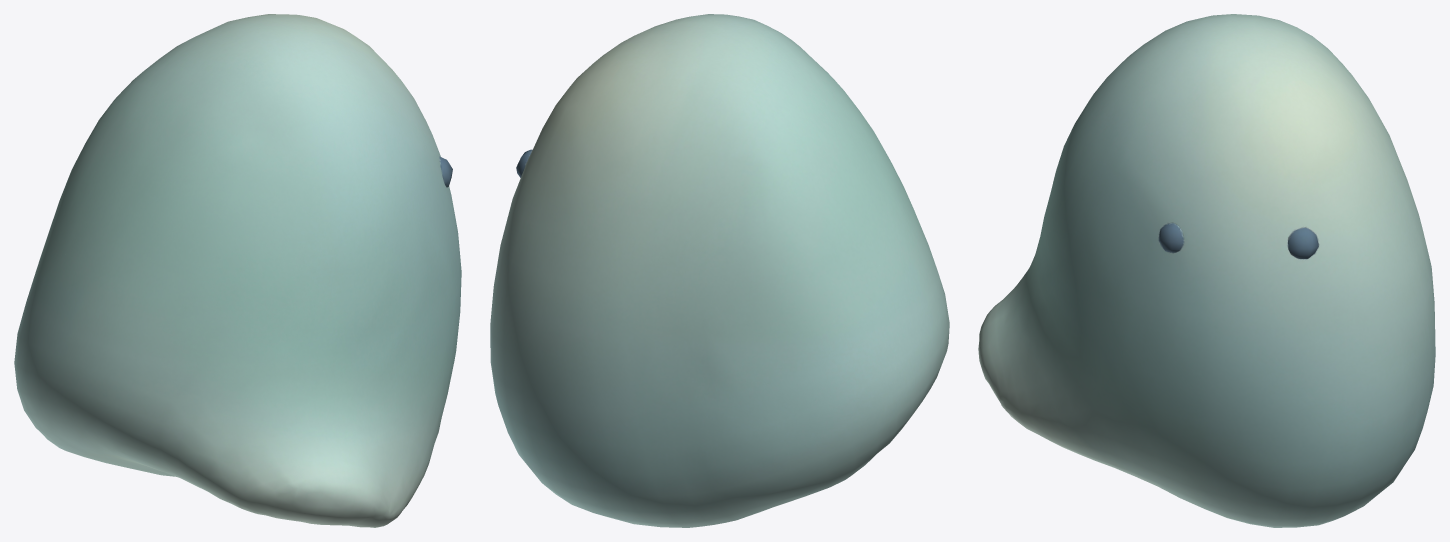
Rendered from ghost.glb.
3 views of the same model, side by side, from view 1: azimuth 30°, elevation 25°; view 2: azimuth 150°, elevation 25°; view 3: azimuth 270°, elevation 25° (orthographic). The views are drawn at different scales.
Visible parts, largest first — view 1: tripo_node_51306784-cece-499e-b93e-e97a7dd5f1d6; view 2: tripo_node_51306784-cece-499e-b93e-e97a7dd5f1d6; view 3: tripo_node_51306784-cece-499e-b93e-e97a7dd5f1d6.
Part boxes in pixels (x1,y1,x2,y2): tripo_node_51306784-cece-499e-b93e-e97a7dd5f1d6: [14, 14, 461, 527]; tripo_node_51306784-cece-499e-b93e-e97a7dd5f1d6: [490, 14, 949, 527]; tripo_node_51306784-cece-499e-b93e-e97a7dd5f1d6: [978, 14, 1435, 527].
Size of the model in its own units: 0.8926 by 0.998 by 0.9082.
Materials: 1 (1 with a texture image).
